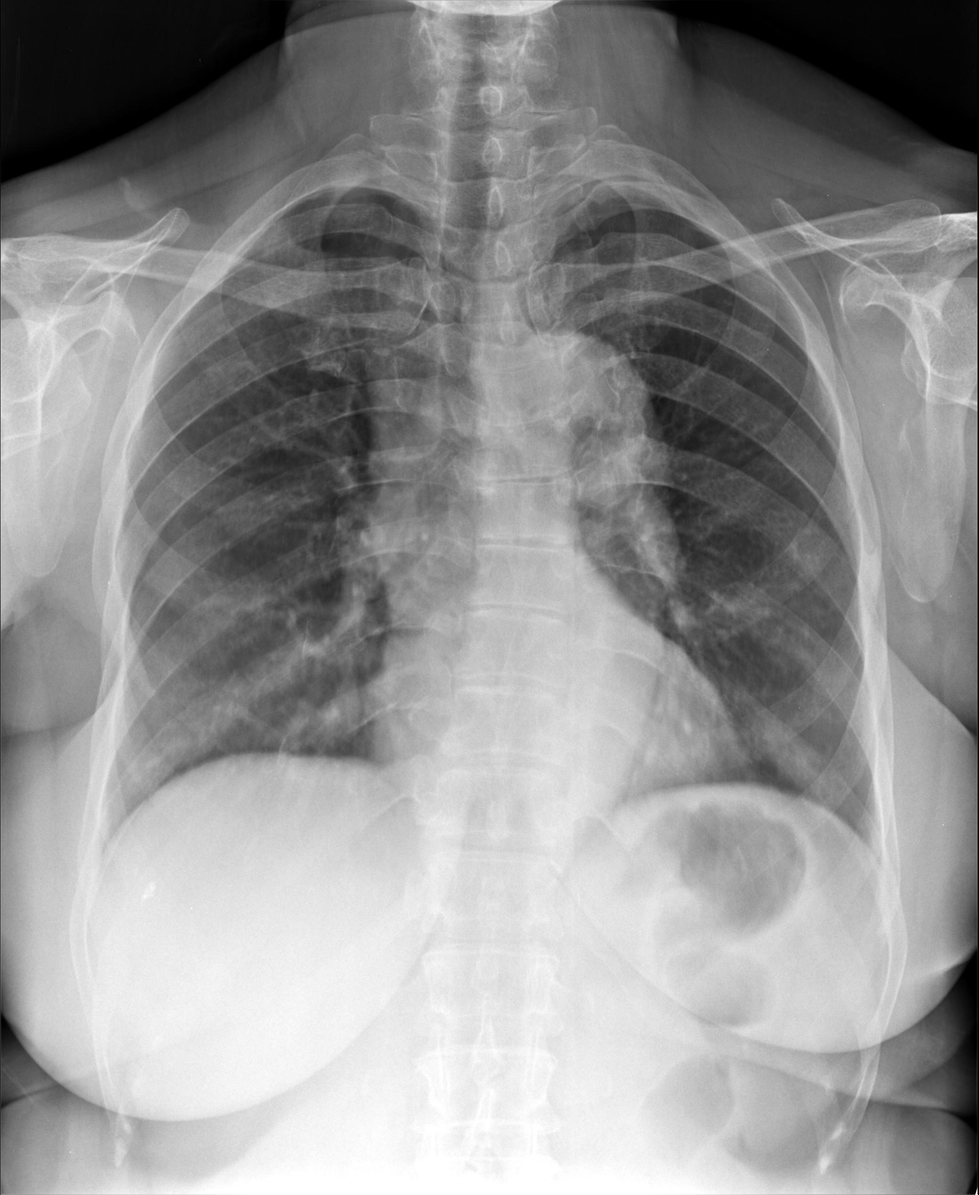Aortic enlargement: (497, 329, 674, 517)
